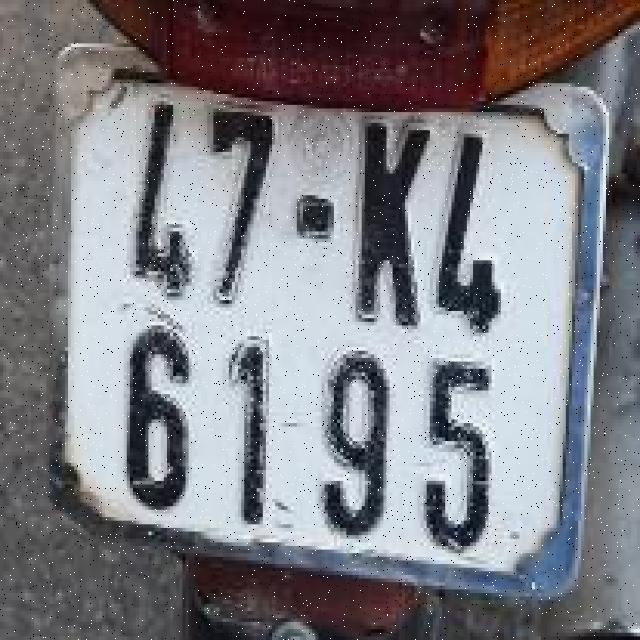1: (213, 329, 291, 524)
4: (431, 109, 515, 347), (126, 87, 197, 307)
5: (419, 349, 509, 562)
6: (119, 311, 203, 521)
7: (207, 101, 272, 315)
9: (309, 338, 399, 544)
K: (345, 106, 428, 334)
